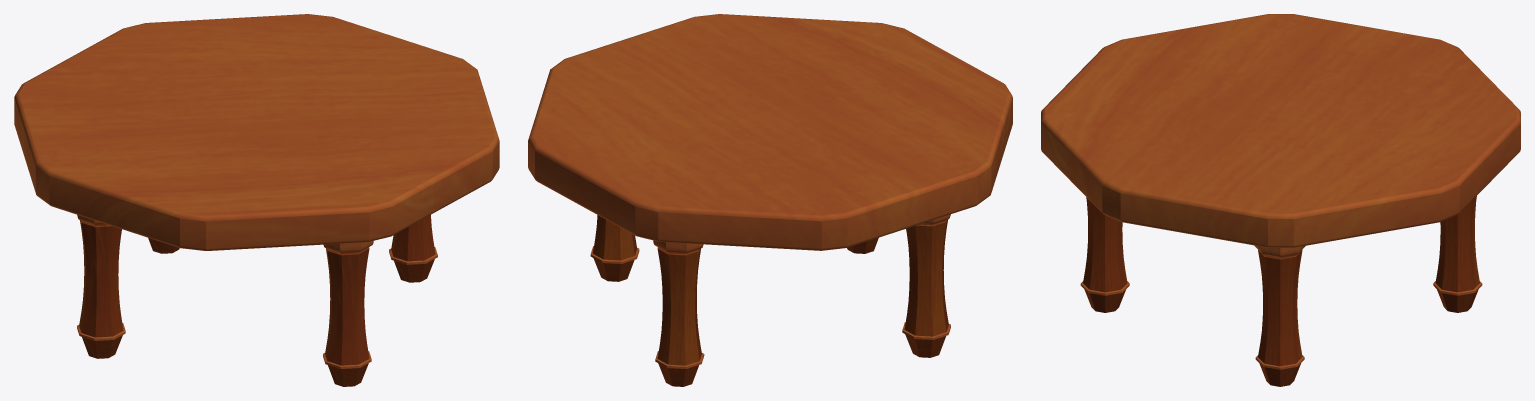
Rendered from small table textured.fbx.
3 views of the same model, side by side, from view 1: azimuth 30°, elevation 25°; view 2: azimuth 150°, elevation 25°; view 3: azimuth 270°, elevation 25° (orthographic). The views are drawn at different scales.
Parts seen in each view (by area): view 1: Table Head, Leg 3, Leg 1, Leg 4; view 2: Table Head, Leg 2, Leg 1, Leg 4; view 3: Table Head, Leg 4, Leg 2, Leg 3.
Boxes of the visible parts, x1,y1,x2,y2 form: Table Head: [14, 14, 499, 250]; Leg 3: [323, 241, 373, 386]; Leg 1: [77, 214, 125, 358]; Leg 4: [389, 215, 437, 282]; Table Head: [528, 14, 1012, 250]; Leg 2: [653, 240, 704, 386]; Leg 1: [902, 214, 950, 357]; Leg 4: [590, 215, 639, 281]; Table Head: [1041, 14, 1520, 247]; Leg 4: [1254, 245, 1305, 386]; Leg 2: [1433, 196, 1482, 312]; Leg 3: [1080, 197, 1129, 312].
Size of the model in its own units: 2887 by 1284 by 2887.
